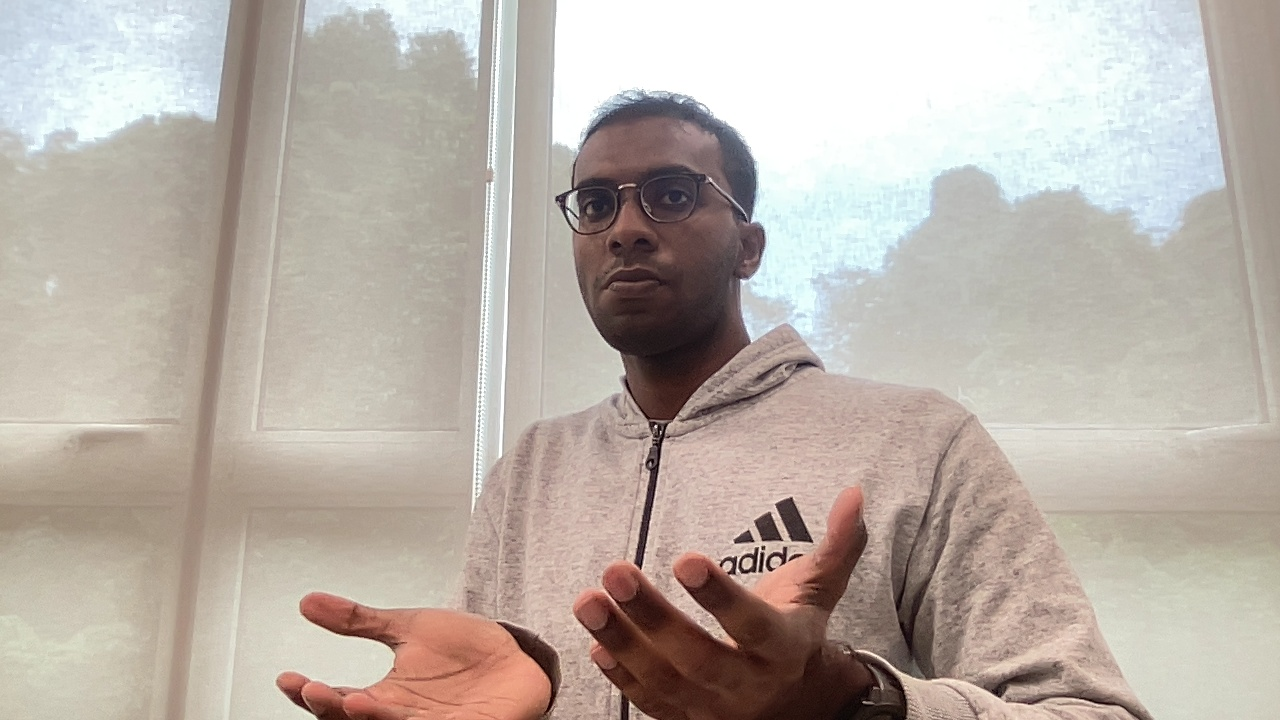give: (268, 475, 876, 720)
